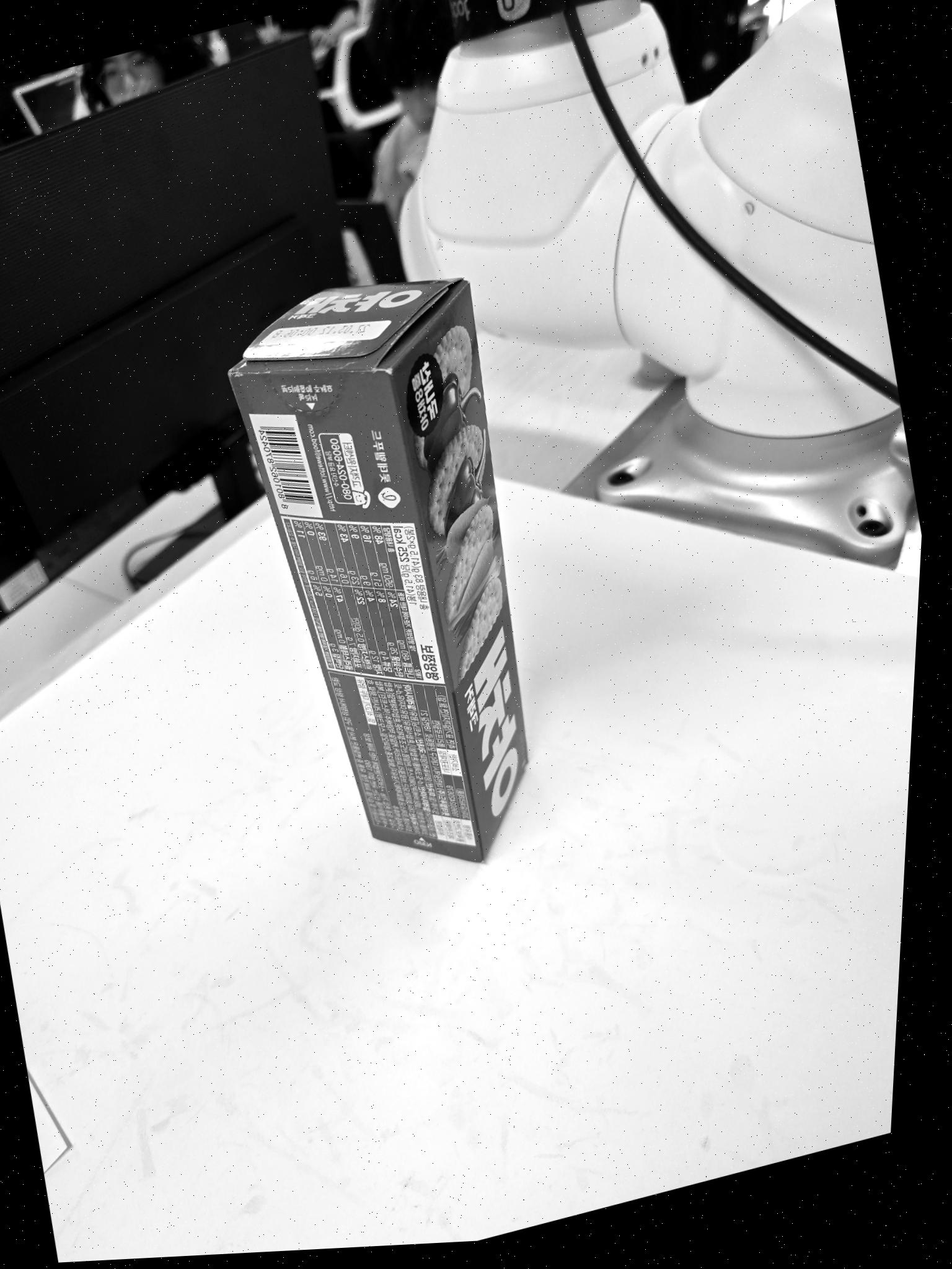cracker_vege: (230, 279, 528, 861)
